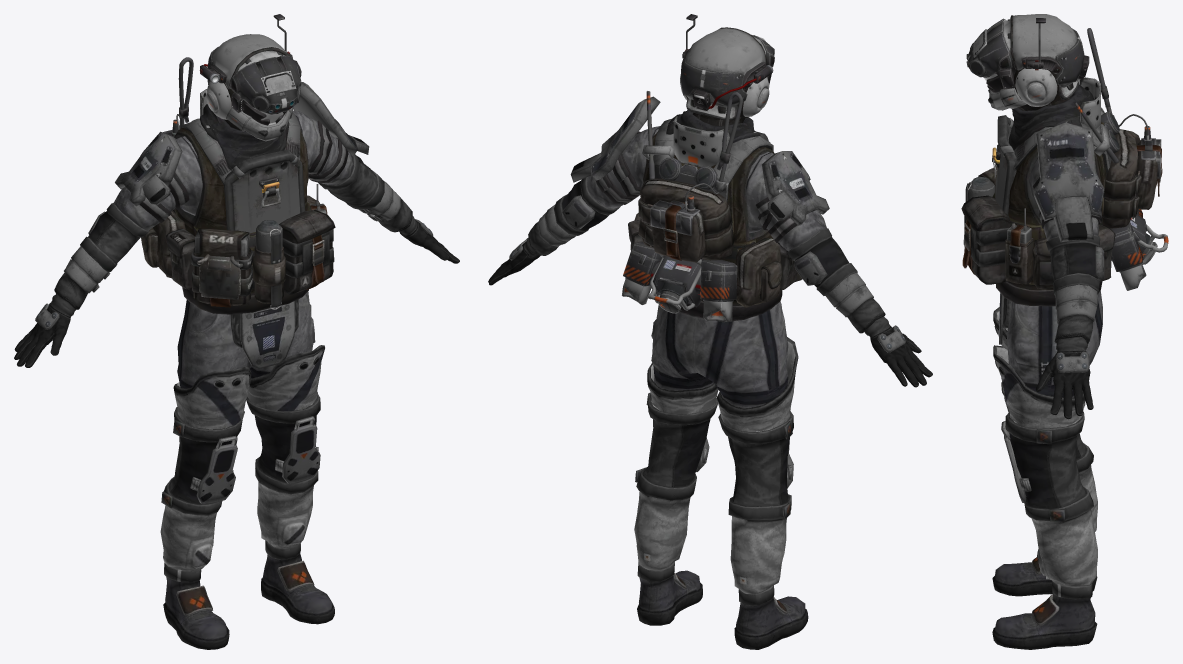
The model's file is scifi-trooper-artloll-v1.glb.
3 views of the same model, side by side, from view 1: azimuth 30°, elevation 25°; view 2: azimuth 150°, elevation 25°; view 3: azimuth 270°, elevation 25° (orthographic). The views are drawn at different scales.
Parts seen in each view (by area): view 1: Object_6, Object_3, Object_7, Object_4, Object_2; view 2: Object_6, Object_3, Object_4, Object_7, Object_2, Object_5; view 3: Object_6, Object_3, Object_4, Object_7, Object_2, Object_5.
Part boxes in pixels (box(x1,y1,x2,y2)): Object_6: box(160, 291, 334, 649); Object_3: box(14, 82, 459, 367); Object_7: box(173, 89, 311, 368); Object_4: box(141, 57, 335, 309); Object_2: box(199, 14, 301, 141); Object_6: box(634, 301, 808, 649); Object_3: box(488, 96, 932, 387); Object_4: box(628, 91, 802, 307); Object_7: box(643, 109, 782, 321); Object_2: box(680, 14, 774, 125); Object_5: box(622, 242, 737, 322); Object_6: box(992, 291, 1102, 649); Object_3: box(1029, 78, 1104, 419); Object_4: box(961, 28, 1162, 290); Object_7: box(992, 77, 1119, 344); Object_2: box(966, 14, 1089, 110); Object_5: box(1110, 209, 1168, 290).
Size of the model in its own units: 1.49 by 1.95 by 0.5992.
6 materials, 6 textured.
